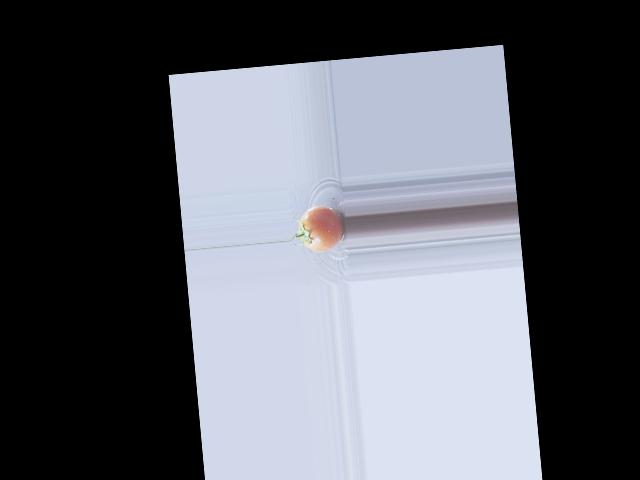tomato: (297, 204, 345, 253)
